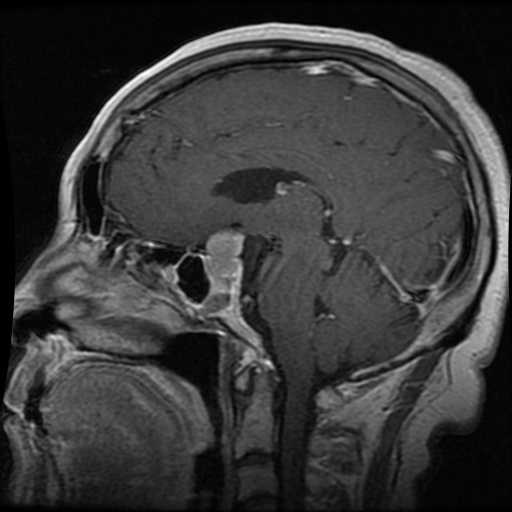pituitary: (209, 229, 242, 277)
